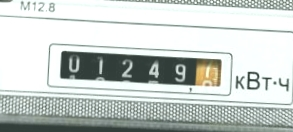0: (66, 52, 81, 73)
1: (92, 54, 106, 75)
2: (117, 56, 134, 79)
4: (146, 57, 160, 78)
7: (200, 57, 215, 78)
9: (172, 61, 186, 83)
screen: (43, 38, 236, 98)
